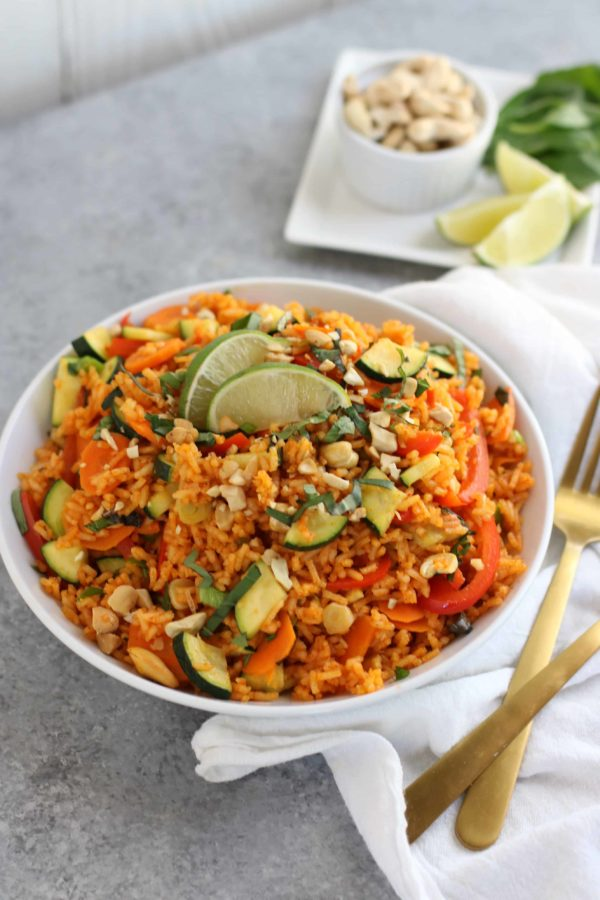rice: (35, 271, 543, 695)
